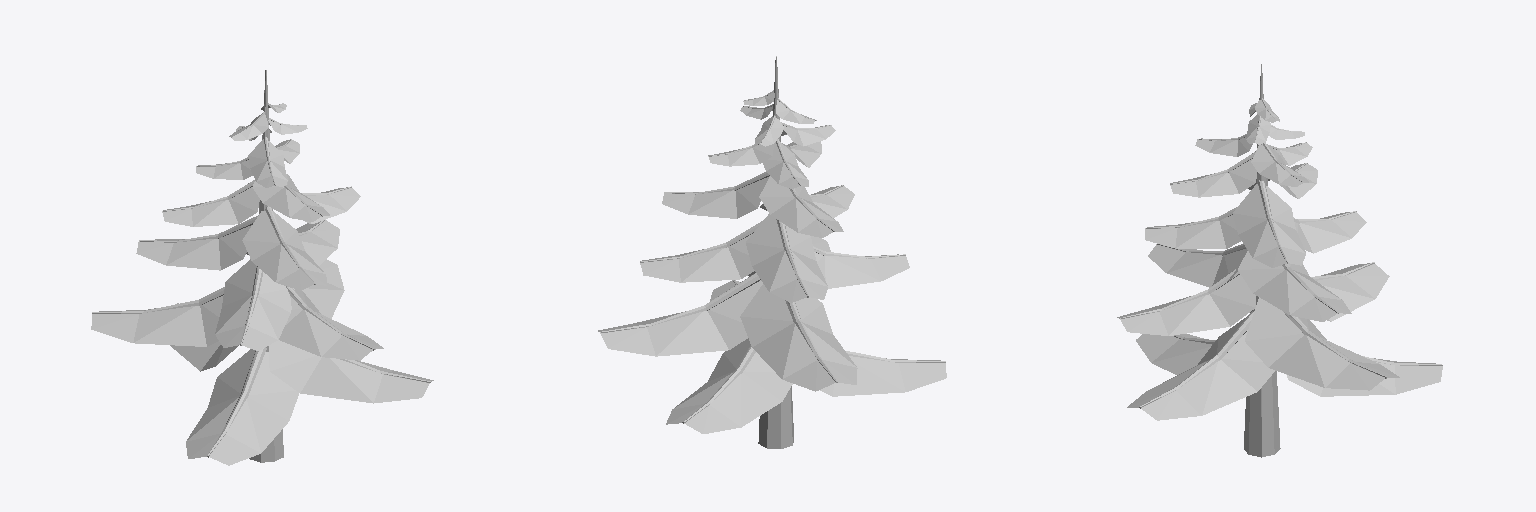
The model's file is DRZEWO.obj.
3 renders of one model, left to right at view 1: azimuth 30°, elevation 25°; view 2: azimuth 150°, elevation 25°; view 3: azimuth 270°, elevation 25°, orthographic.
Parts seen in each view (by area): view 1: Cube; view 2: Cube; view 3: Cube.
Part boxes in pixels (left/top/right/bottom): Cube: left=91, top=70, right=433, bottom=465; Cube: left=598, top=56, right=946, bottom=448; Cube: left=1117, top=64, right=1442, bottom=457.
Bounding box in the file's own units: 13.77 × 20.02 × 15.4.